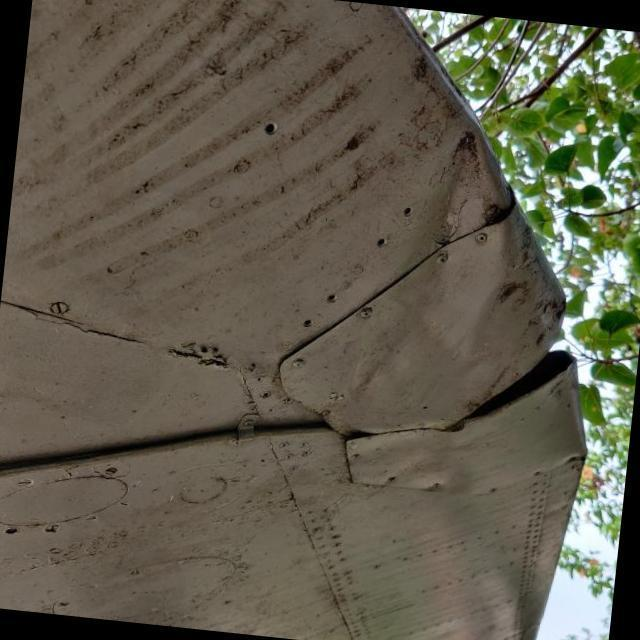Dent: (324, 147, 550, 444)
